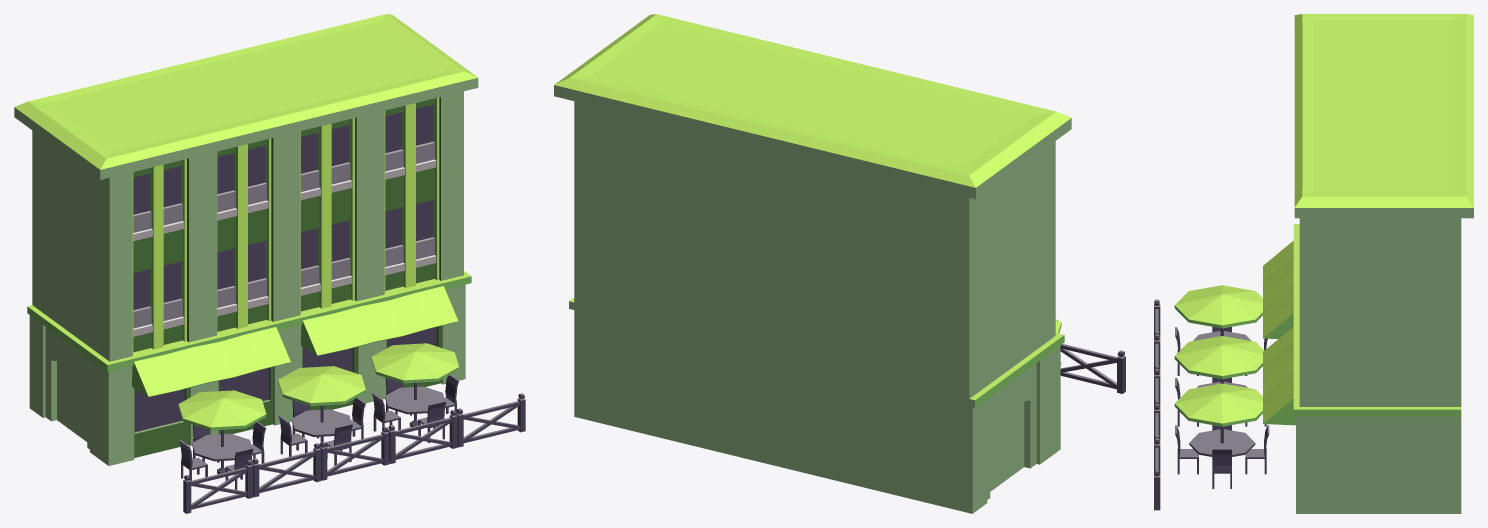
The model's file is GREEN_cafe.fbx.
3 views of the same model, side by side, from view 1: azimuth 30°, elevation 25°; view 2: azimuth 150°, elevation 25°; view 3: azimuth 270°, elevation 25° (orthographic). The views are drawn at different scales.
Parts seen in each view (by area): view 1: pCube18, pasted__pCube20, pasted__pCube21, pCylinder7, pCylinder6, pCylinder5, pCylinder9, pCylinder10, pCylinder13; view 2: pCube18; view 3: pCube18, pCylinder7, pCylinder6, pCylinder5, pasted__pCube21, pasted__pCube20, pCylinder10, pCube56.
Boxes of the visible parts, box(x1,y1,x2,y2) form: pCube18: box(14, 14, 478, 465); pasted__pCube20: box(132, 327, 290, 396); pasted__pCube21: box(300, 286, 458, 355); pCylinder7: box(178, 390, 266, 430); pCylinder6: box(371, 343, 459, 383); pCylinder5: box(278, 366, 365, 406); pCylinder9: box(291, 409, 352, 436); pCylinder10: box(385, 386, 445, 414); pCylinder13: box(192, 433, 252, 461); pCube18: box(554, 14, 1071, 513); pCube18: box(1293, 14, 1473, 513); pCylinder7: box(1174, 285, 1262, 328); pCylinder6: box(1174, 383, 1262, 426); pCylinder5: box(1174, 336, 1264, 379); pasted__pCube21: box(1263, 327, 1295, 425); pasted__pCube20: box(1263, 241, 1293, 338); pCylinder10: box(1189, 429, 1255, 456); pCube56: box(1212, 448, 1231, 471).
Bounding box in the file's own units: 14.79 × 11.41 × 10.38.
